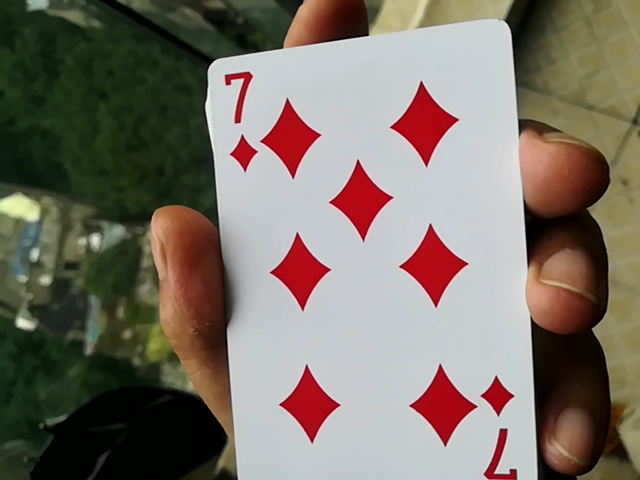fk 7: (183, 12, 530, 479)
